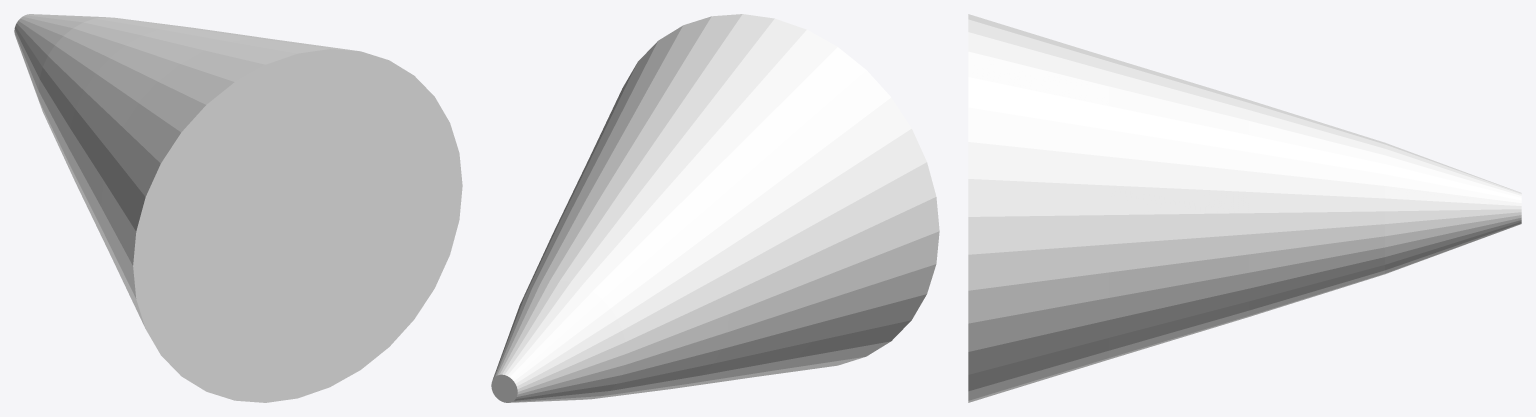
File: flashlightRange.obj
3 views of the same model, side by side, from view 1: azimuth 30°, elevation 25°; view 2: azimuth 150°, elevation 25°; view 3: azimuth 270°, elevation 25° (orthographic). The views are drawn at different scales.
Visible parts, largest first — view 1: 円錐; view 2: 円錐; view 3: 円錐.
Boxes of the visible parts, x1,y1,x2,y2 form: 円錐: (14,14,462,402); 円錐: (491,14,939,402); 円錐: (968,14,1521,402).
Bounding box in the file's own units: 2 × 2 × 2.84.
1 material, 1 textured.
